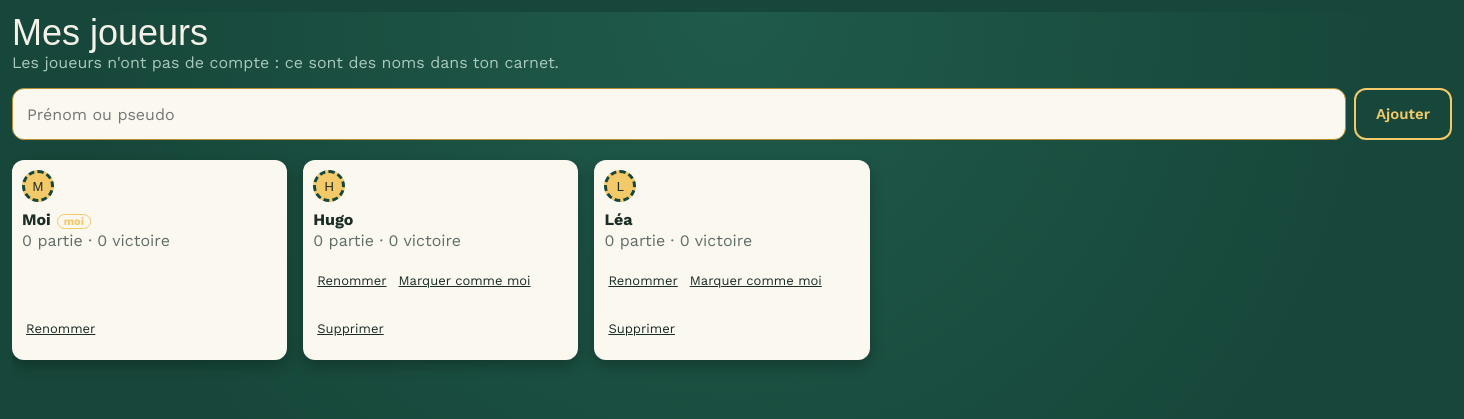
Test case: Joueurs › affiche un message quand le nom existe déjà à l'ajout
Type "Léa" into the field named "Nom du joueur" at (679, 114), box [12,88,1346,140]
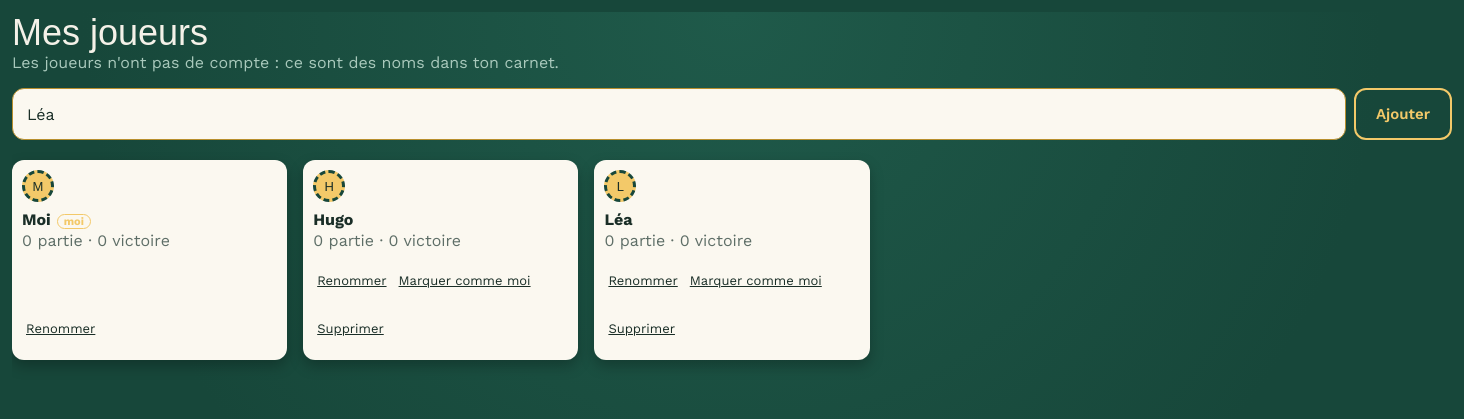
Submit the form with class "add", box [12,72,1452,142]
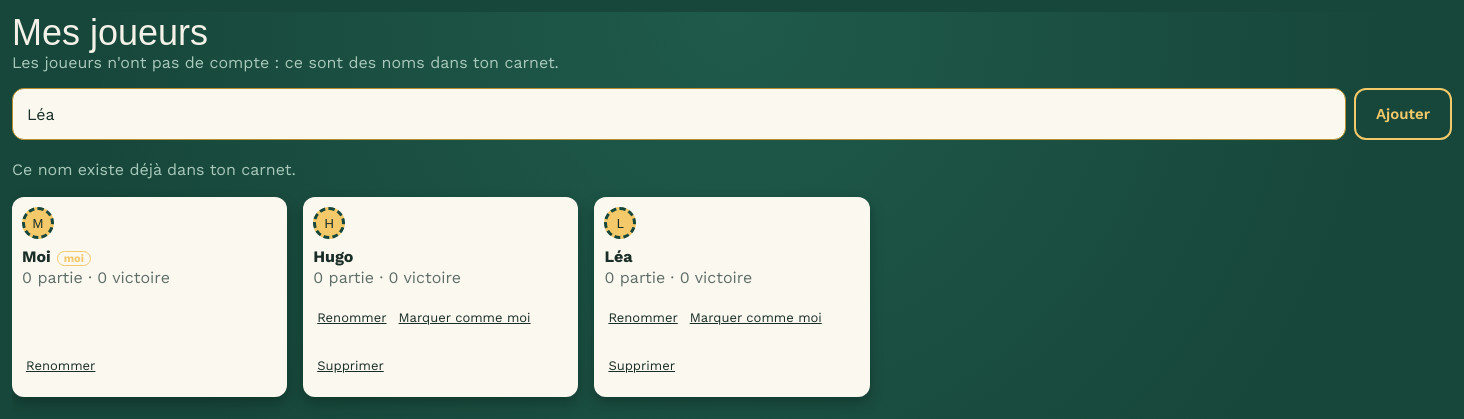
Expected: the text with class "error-add" reads "Ce nom existe déjà dans ton carnet.", [12,160,296,179]
